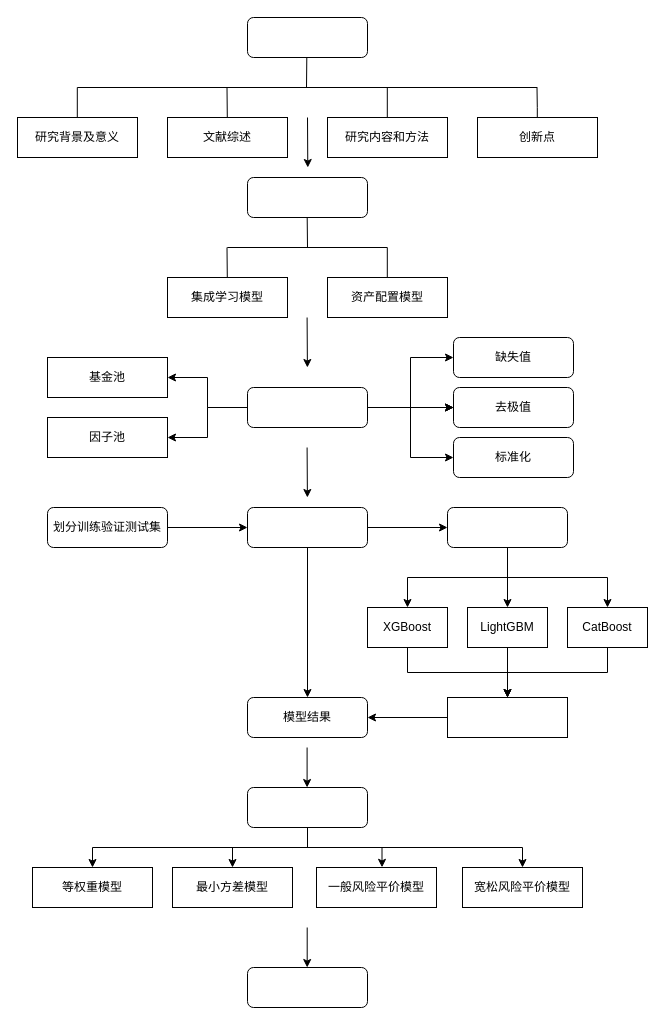
Image size: 665x1025. Some labels were removed from this diagram. The shapes that lost their labels are listed below. From the top down, each one's centre as x and y in pixels, then its label:
At pixel 307 37: "引言".
At pixel 307 197: "相关理论与模型".
At pixel 307 407: "数据选取和预处理".
At pixel 307 527: "模型训练".
At pixel 507 527: "基金筛选模型探索".
At pixel 507 717: "Stacking融合".
At pixel 307 807: "资产配置".
At pixel 307 987: "结论与展望".
